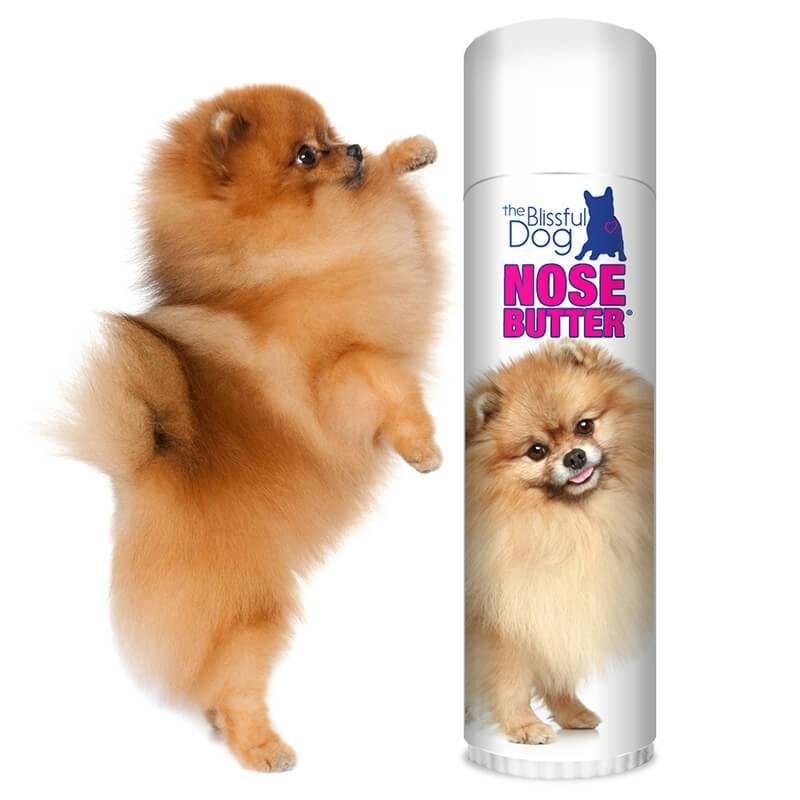pomeranian: (49, 67, 472, 790)
